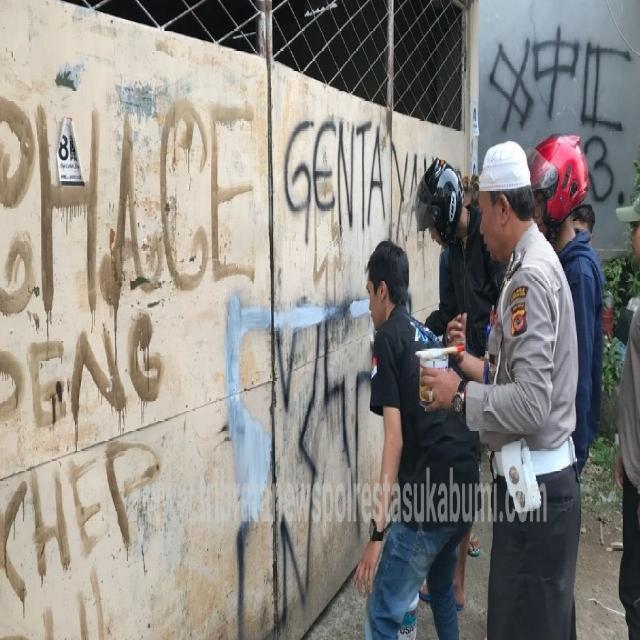-: (0, 93, 255, 308), (234, 302, 378, 636), (1, 439, 161, 601), (1, 313, 164, 427), (488, 24, 630, 133), (285, 118, 387, 234), (392, 150, 444, 243), (313, 190, 343, 302), (582, 136, 614, 202)
